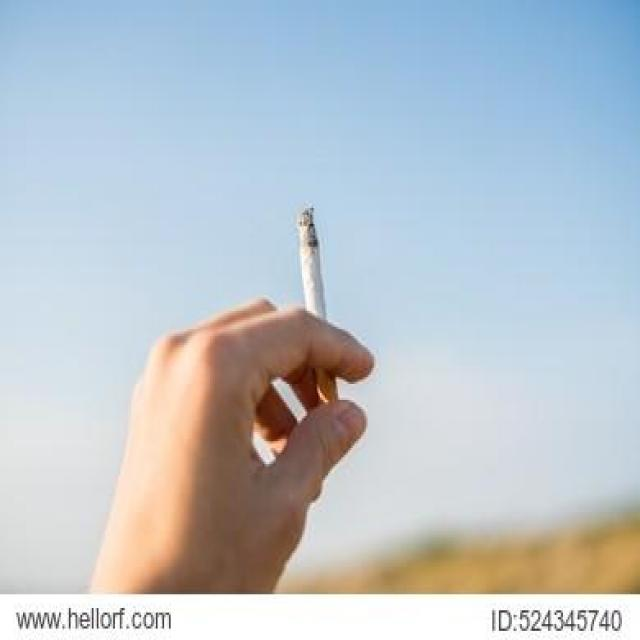Сигарета: (298, 205, 340, 401)
